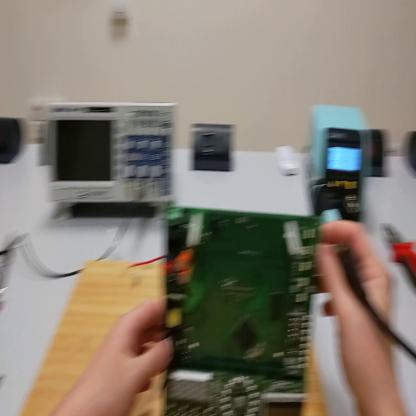hand: (317, 222, 404, 414), (66, 298, 175, 416)
low voltage board: (142, 203, 335, 415)
oscilloscope: (45, 104, 174, 220)
pliers: (383, 219, 415, 288)
socket: (3, 117, 24, 163), (367, 129, 387, 175), (405, 130, 416, 179), (41, 125, 48, 163)
welder station: (309, 108, 366, 217)
working area: (21, 261, 331, 415)
